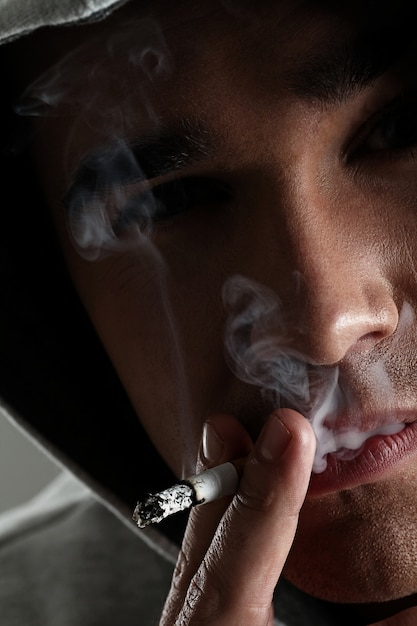cigarette: (133, 461, 245, 527)
